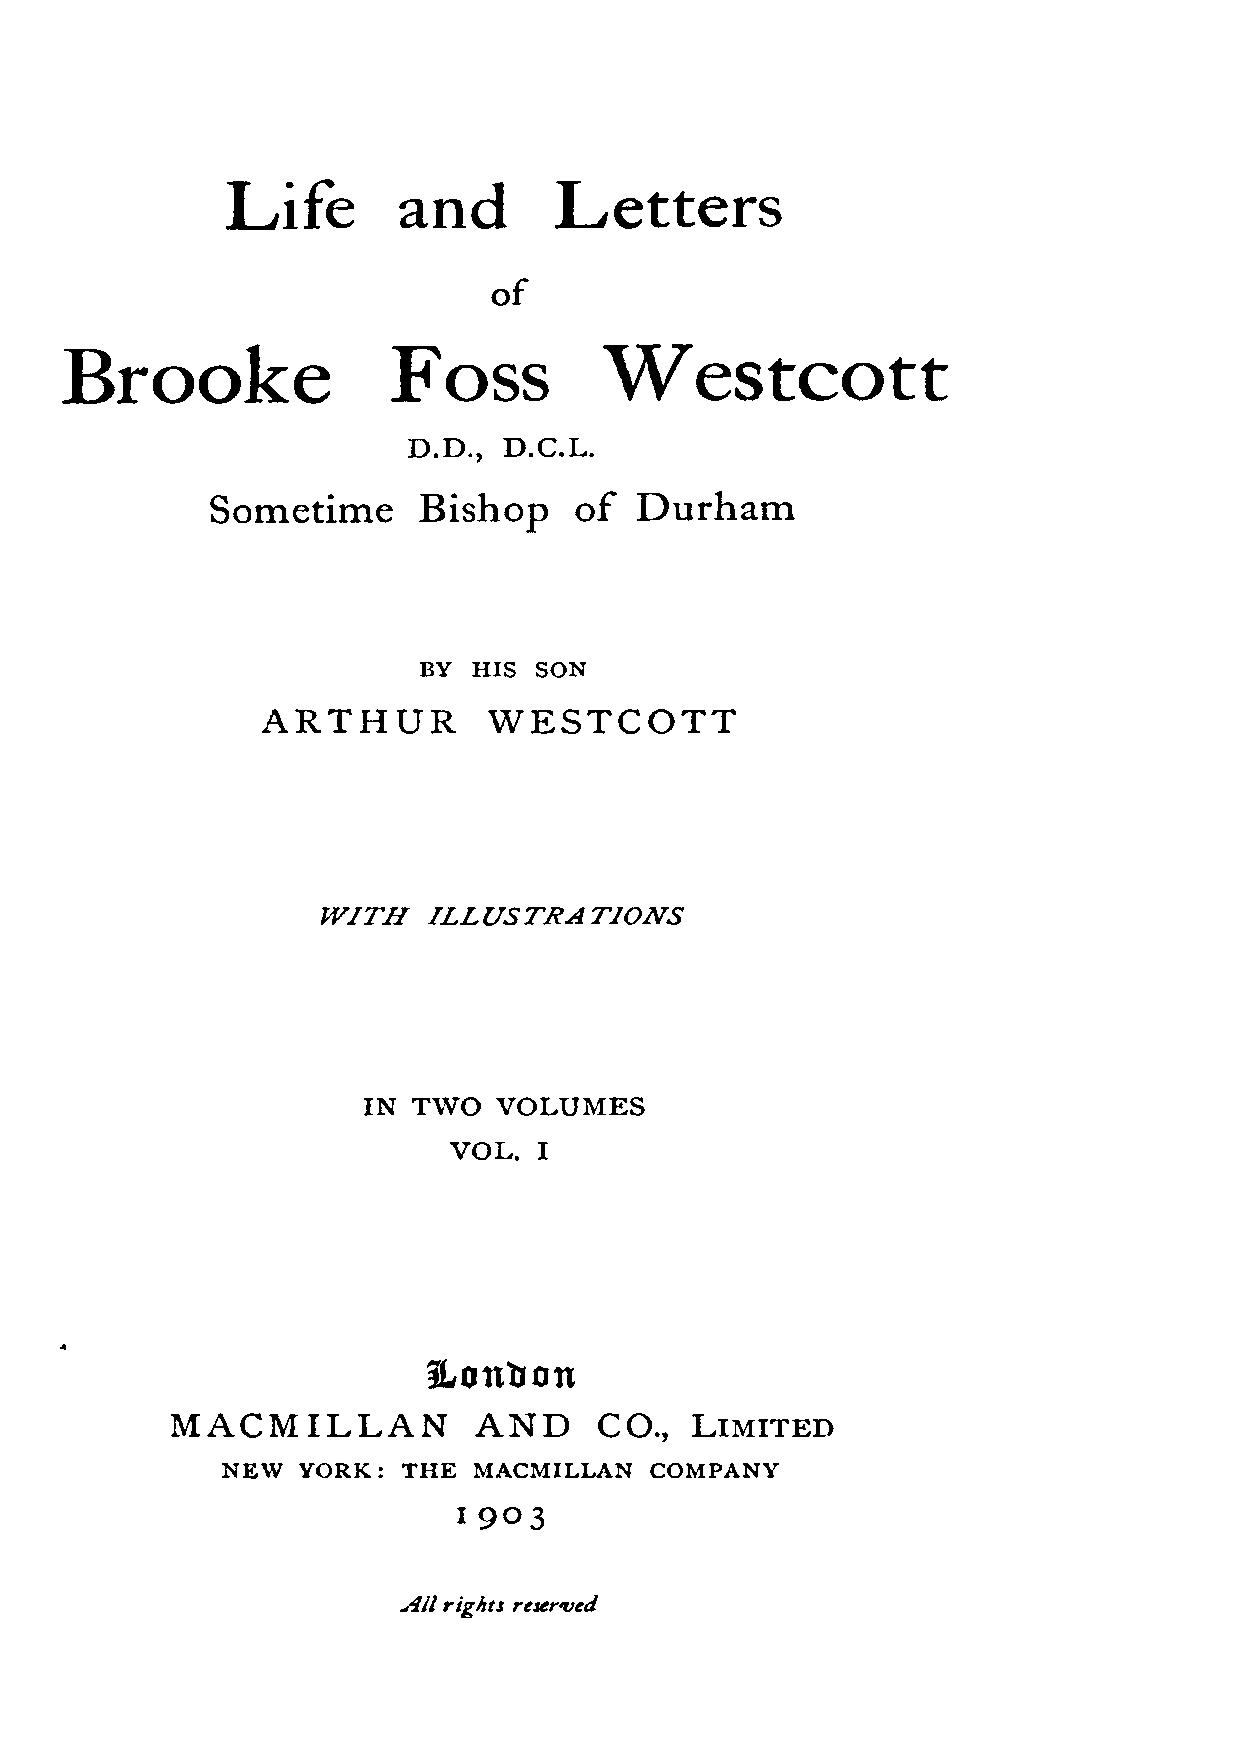author: (258, 659, 735, 739)
title: (56, 176, 947, 411)
